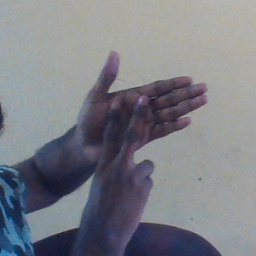N: (73, 43, 220, 206)
